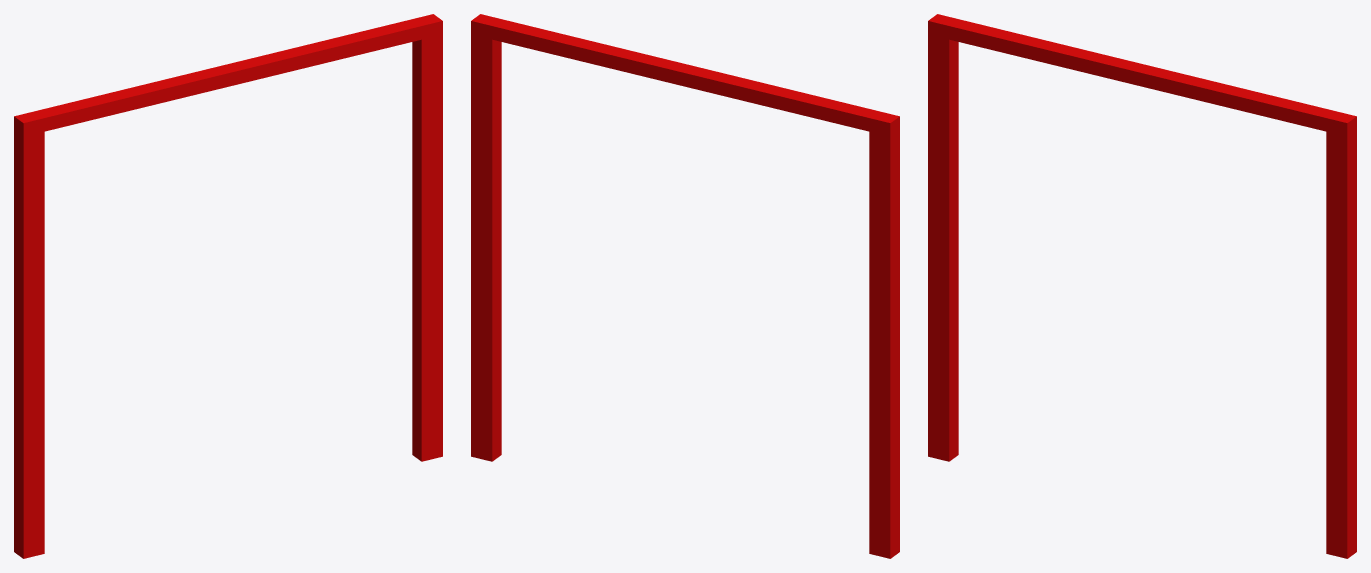
File: SM_DoubleDoorCFrameCollider.fbx
3 views of the same model, side by side, from view 1: azimuth 30°, elevation 25°; view 2: azimuth 150°, elevation 25°; view 3: azimuth 330°, elevation 25° (orthographic).
Visible parts, largest first — view 1: DoubleDoorCFrameCollision; view 2: DoubleDoorCFrameCollision; view 3: DoubleDoorCFrameCollision.
Boxes of the visible parts, x1,y1,x2,y2 form: DoubleDoorCFrameCollision: [14, 14, 442, 558]; DoubleDoorCFrameCollision: [471, 14, 899, 558]; DoubleDoorCFrameCollision: [928, 14, 1356, 558].
Bounding box in the file's own units: 250 × 248 × 9.73.
